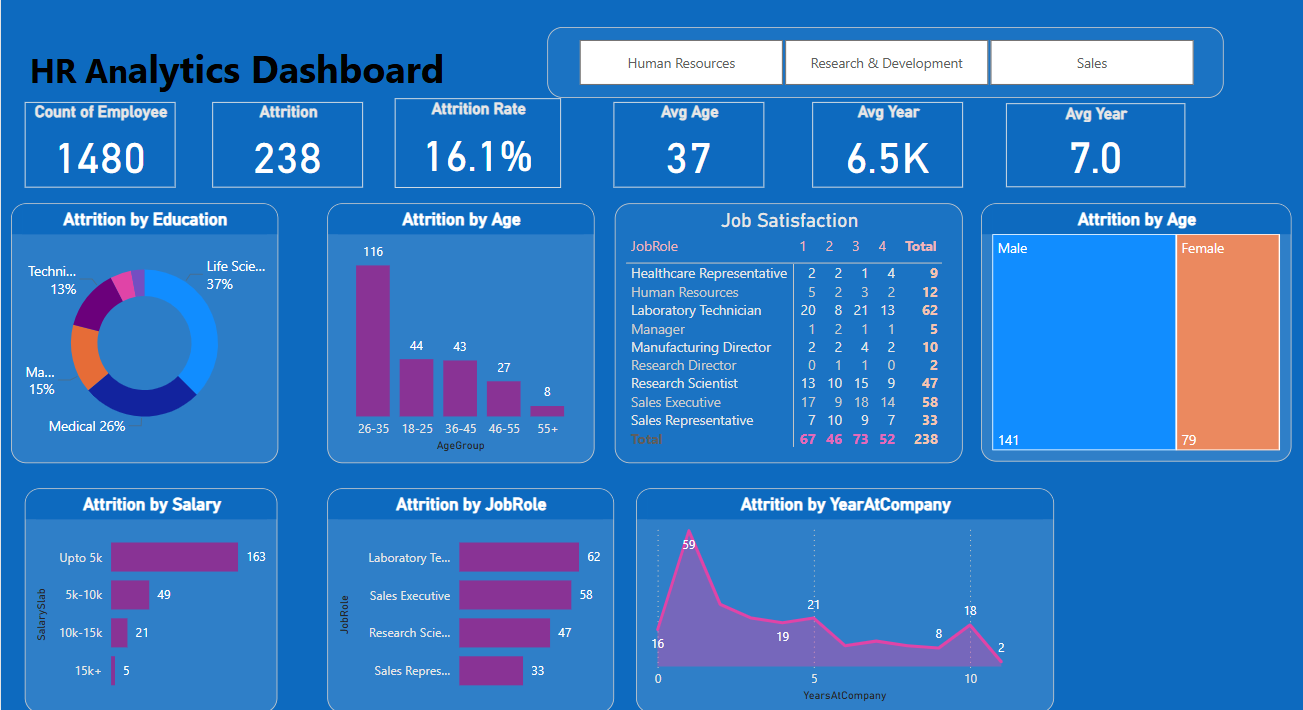

The dashboard page shown, as its layout file describes it:
{"tool":"powerbi","page":{"name":"Page 1","canvas":[1280,720],"ordinal":0},"visuals":[{"type":"card","title":"Count of Employee","fields":{"Values":["CountNonNull(HR_Analytics.EmpID)"]},"box":[23.3,118,148.2,83.7],"z":0},{"type":"card","title":"Attrition Rate","fields":{"Values":["HR_Analytics.AttritionRate"]},"box":[387,113.9,163.3,87.8],"z":1000},{"type":"card","title":"Attrition","fields":{"Values":["Sum(HR_Analytics.AttritionCount)"]},"box":[207.2,118,148.2,83.7],"z":2000},{"type":"card","title":"Avg Age","fields":{"Values":["Avg(HR_Analytics.Age)"]},"box":[601,118,148.2,83.7],"z":3000},{"type":"card","title":"Avg Year","fields":{"Values":["Avg(HR_Analytics.MonthlyIncome)"]},"box":[795.9,118,148.2,83.7],"z":4000},{"type":"card","title":"Avg Year","fields":{"Values":["Avg(HR_Analytics.YearsAtCompany)"]},"box":[986.6,119.4,175.6,82.3],"z":5000},{"type":"donutChart","title":"Attrition by Education","fields":{"Category":["HR_Analytics.EducationField"],"Y":["Sum(HR_Analytics.AttritionCount)"]},"box":[9.6,216.8,262.1,255.2],"z":6000},{"type":"columnChart","title":"Attrition by Age","fields":{"Category":["HR_Analytics.AgeGroup"],"Y":["Sum(HR_Analytics.AttritionCount)"]},"box":[319.7,216.8,262.1,255.2],"z":7000},{"type":"pivotTable","title":"Job Satisfaction","fields":{"Rows":["HR_Analytics.JobRole"],"Columns":["HR_Analytics.JobSatisfaction"],"Values":["Sum(HR_Analytics.AttritionCount)"]},"box":[602.4,216.8,341.7,255.2],"z":8000},{"type":"barChart","title":"Attrition by Salary","fields":{"Category":["HR_Analytics.SalarySlab"],"Y":["Sum(HR_Analytics.AttritionCount)"]},"box":[23.3,496.7,248.4,220.9],"z":9000},{"type":"lineChart","title":"Attrition by YearAtCompany","fields":{"Category":["HR_Analytics.YearsAtCompany"],"Y":["Sum(HR_Analytics.AttritionCount)"]},"box":[623,496.7,410.3,220.9],"z":10000},{"type":"clusteredBarChart","title":"Attrition by JobRole","fields":{"Y":["Sum(HR_Analytics.AttritionCount)"],"Category":["HR_Analytics.JobRole"]},"box":[319.7,496.7,281.3,220.9],"z":11000},{"type":"treemap","title":"Attrition by Age","fields":{"Group":["HR_Analytics.Gender"],"Values":["Sum(HR_Analytics.AttritionCount)"]},"box":[961.9,216.8,304.6,253.9],"z":12000},{"type":"slicer","fields":{"Values":["HR_Analytics.Department"]},"box":[536.5,43.9,664.2,70],"z":13000},{"type":"textbox","box":[23.3,53.5,725.9,60.4],"z":14000}]}

Visuals, with their boxes on the page's 1280x720 design canvas (x1, y1, x2, y2). These are canvas units, not pixel positions in the 1303x710 screenshot, which may show the page scaled, cropped or inside an application window:
"Count of Employee" card: [23, 118, 172, 202]
"Attrition Rate" card: [387, 114, 550, 202]
"Attrition" card: [207, 118, 355, 202]
"Avg Age" card: [601, 118, 749, 202]
"Avg Year" card: [796, 118, 944, 202]
"Avg Year" card: [987, 119, 1162, 202]
"Attrition by Education" donutChart: [10, 217, 272, 472]
"Attrition by Age" columnChart: [320, 217, 582, 472]
"Job Satisfaction" pivotTable: [602, 217, 944, 472]
"Attrition by Salary" barChart: [23, 497, 272, 718]
"Attrition by YearAtCompany" lineChart: [623, 497, 1033, 718]
"Attrition by JobRole" clusteredBarChart: [320, 497, 601, 718]
"Attrition by Age" treemap: [962, 217, 1266, 471]
slicer - HR_Analytics.Department: [536, 44, 1201, 114]
textbox: [23, 54, 749, 114]
